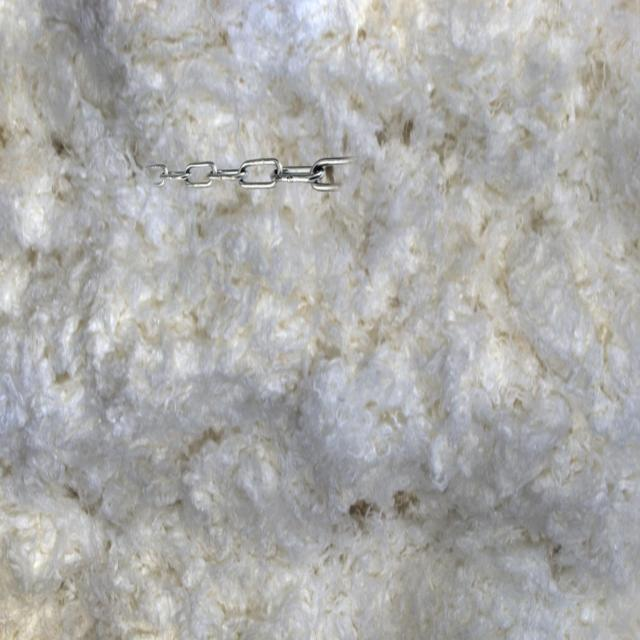dust: (129, 89, 372, 301)
